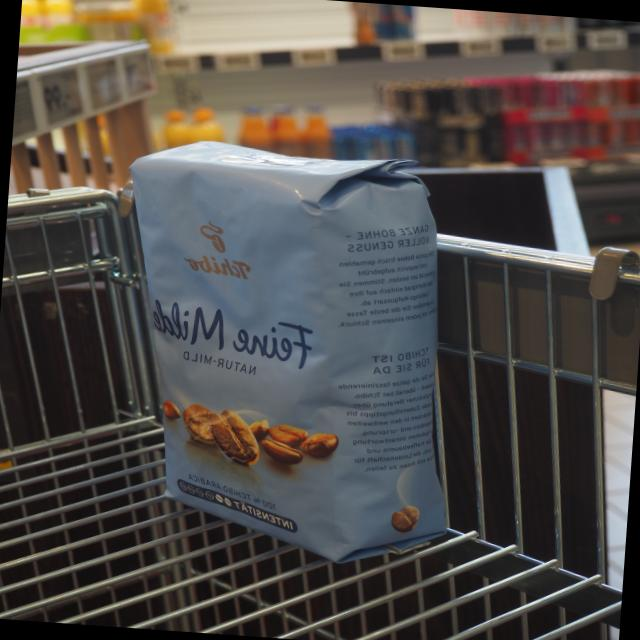FM Bohne: (93, 129, 480, 576)
